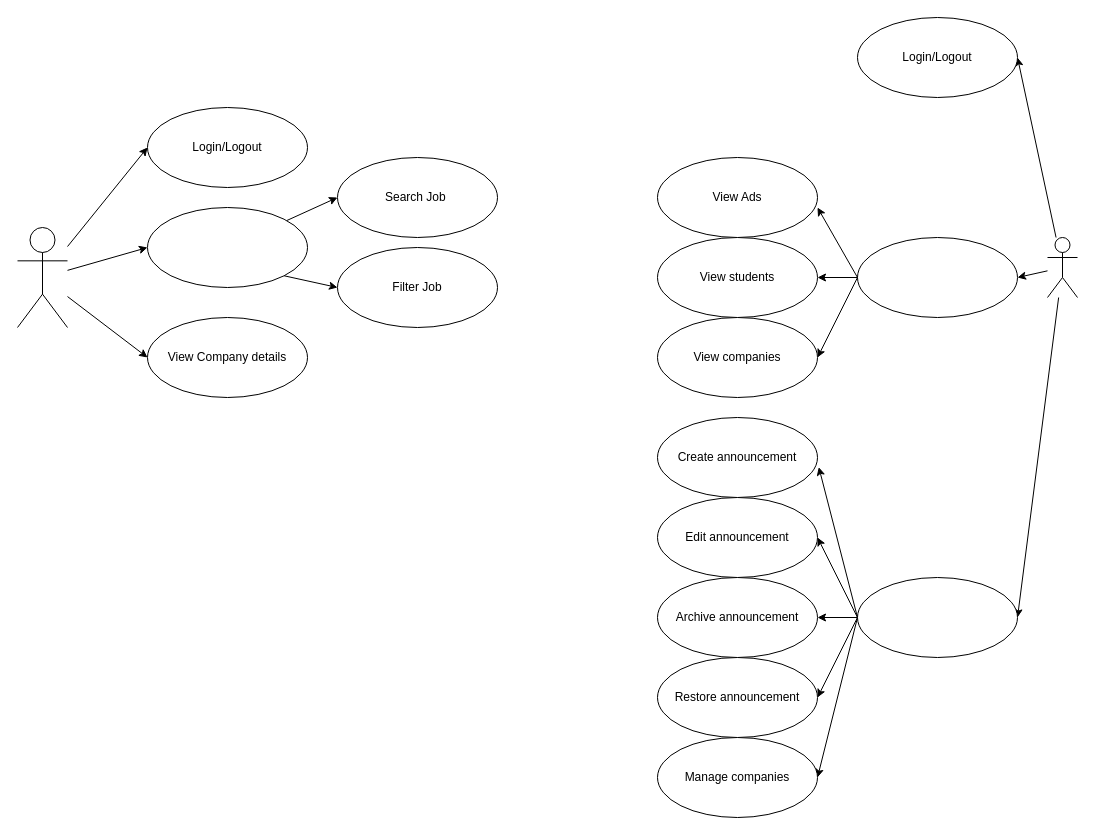
The diagram is 1097 pixels wide and 835 high, and some of its shapes have lost their labels. Here are the shapes that lost their labels. From the top down, the centre of each, then its label:
At pixel 227 247: "View Job Offers".
At pixel 1062 267: "Admin".
At pixel 42 277: "Student".
At pixel 937 277: "Access dashboard".
At pixel 937 617: "Manage Entities".
